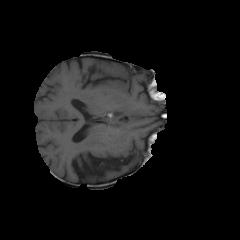glioma: (102, 62, 133, 96)
